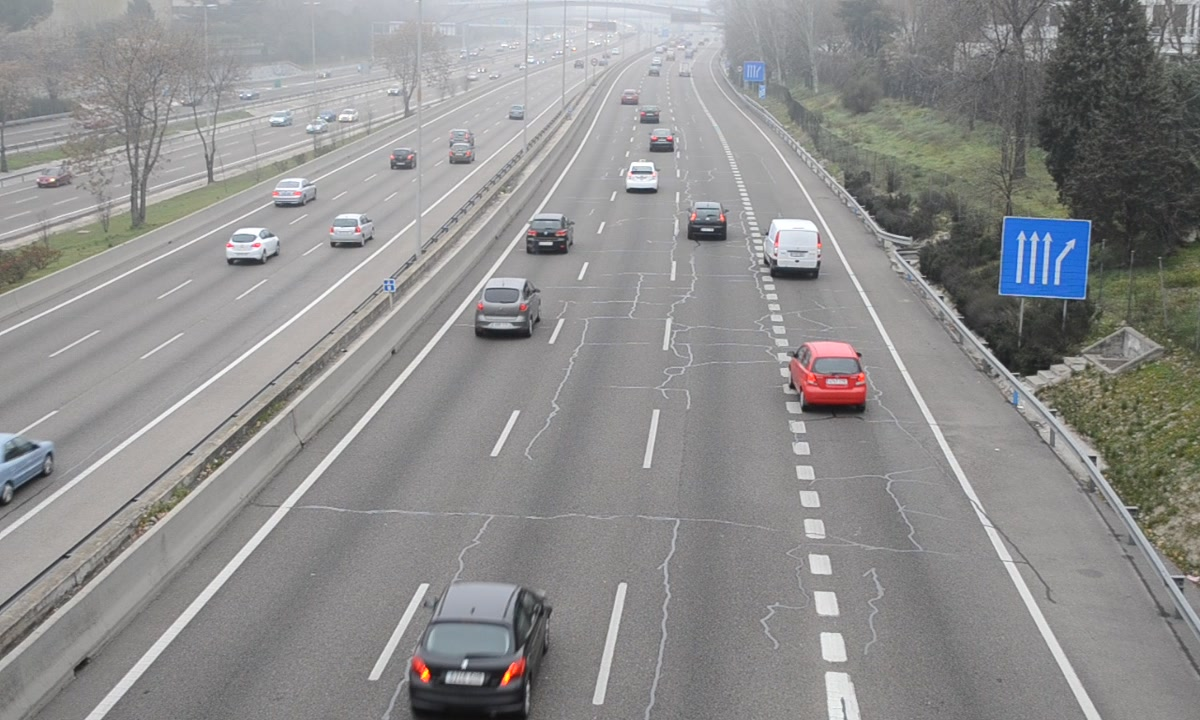car: (407, 584, 552, 717), (791, 340, 867, 406), (476, 277, 538, 331), (528, 213, 574, 255), (688, 200, 728, 240), (624, 158, 661, 194), (651, 126, 675, 151)
van: (768, 218, 823, 276)
